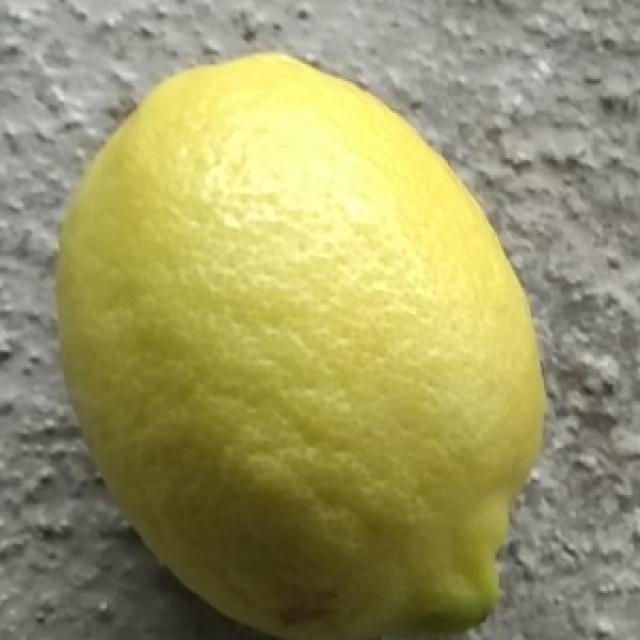Ripe: (47, 42, 554, 640)
